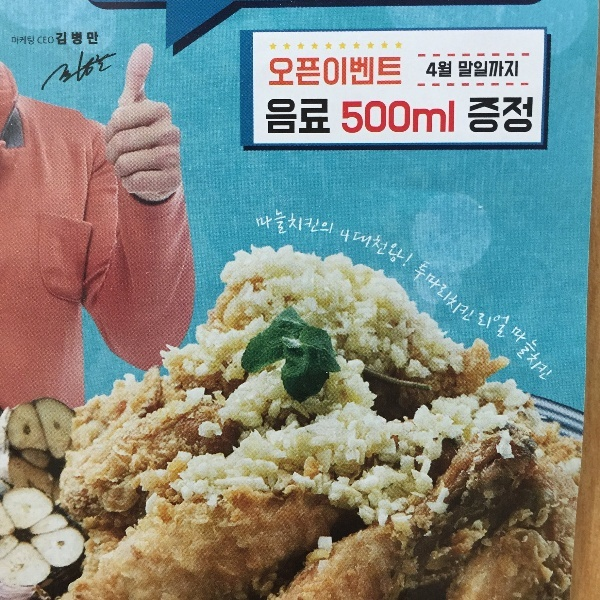text: (433, 255, 448, 333), (449, 255, 464, 333), (529, 318, 544, 392), (545, 318, 560, 392), (465, 255, 479, 333), (353, 219, 368, 280), (369, 219, 384, 280), (385, 219, 400, 280), (401, 219, 416, 280), (33, 45, 48, 102), (49, 45, 64, 102), (65, 45, 80, 102), (81, 45, 96, 102), (97, 45, 112, 102), (517, 318, 528, 392), (422, 255, 432, 333), (481, 302, 496, 350), (497, 302, 512, 350), (337, 96, 352, 141), (353, 96, 368, 141), (369, 96, 384, 141), (385, 96, 400, 141), (401, 96, 416, 141), (417, 96, 432, 141), (433, 96, 448, 141), (481, 93, 496, 138), (497, 93, 512, 138), (513, 93, 528, 138), (341, 219, 352, 280), (273, 94, 288, 137), (289, 94, 304, 137), (305, 94, 320, 137), (273, 51, 288, 93), (289, 51, 304, 93), (305, 51, 320, 93), (321, 51, 336, 93), (337, 51, 352, 93), (353, 51, 368, 93), (369, 51, 384, 93), (385, 51, 400, 93), (466, 93, 480, 138), (113, 45, 123, 102), (321, 94, 334, 137), (257, 209, 272, 244), (273, 209, 288, 244), (289, 209, 304, 244), (305, 209, 320, 244), (321, 209, 336, 244), (449, 96, 460, 141), (263, 94, 272, 137), (433, 57, 448, 82), (529, 93, 537, 138), (264, 51, 272, 93), (465, 59, 480, 81), (481, 59, 496, 81), (497, 59, 512, 81), (417, 219, 422, 280), (65, 29, 80, 48), (81, 29, 96, 48), (422, 57, 432, 82), (17, 33, 32, 48), (37, 33, 48, 50), (513, 59, 521, 81), (449, 57, 456, 82), (251, 209, 256, 244), (56, 29, 64, 48), (458, 59, 464, 81), (401, 51, 404, 93), (49, 33, 56, 50), (9, 33, 16, 48), (337, 209, 340, 244), (97, 29, 101, 48), (561, 318, 562, 392), (513, 302, 514, 350), (33, 33, 35, 48)
